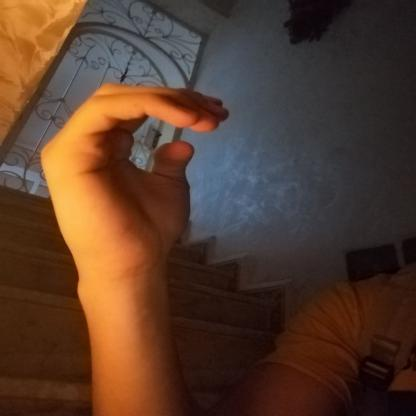JEEM: (20, 73, 251, 286)
